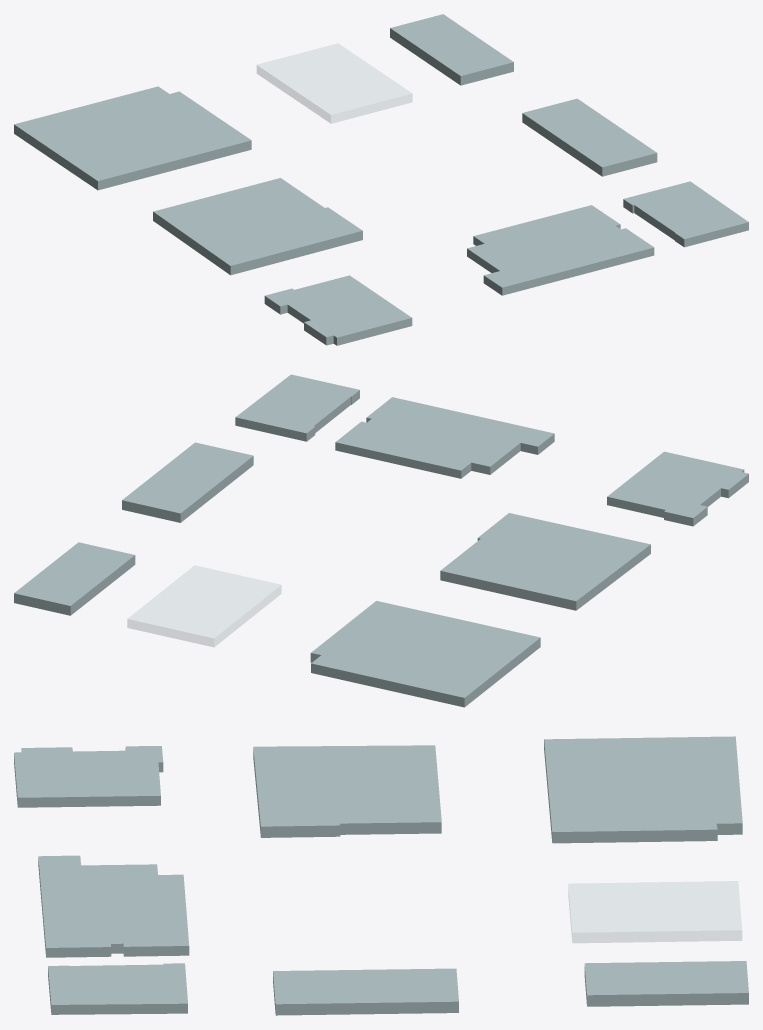
Rendered from other.glb.
3 views of the same model, one above another, from view 1: azimuth 30°, elevation 25°; view 2: azimuth 150°, elevation 25°; view 3: azimuth 270°, elevation 25° (orthographic). The views are drawn at different scales.
Parts seen in each view (by area): view 1: other3, other2, other7, other8, other1, other5, other4, other6; view 2: other3, other2, other7, other8, other1, other5, other4, other6; view 3: other3, other2, other7, other8, other1, other5, other4, other6.
Boxes of the visible parts, x1,y1,x2,y2 form: other3: [14, 86, 251, 190]; other2: [153, 178, 362, 275]; other7: [467, 205, 654, 295]; other8: [257, 43, 412, 123]; other1: [264, 275, 412, 345]; other5: [522, 98, 657, 176]; other4: [390, 14, 513, 85]; other6: [623, 181, 748, 247]; other3: [310, 601, 540, 707]; other2: [440, 513, 650, 610]; other7: [335, 397, 554, 478]; other8: [127, 565, 281, 646]; other1: [607, 451, 748, 526]; other5: [122, 442, 253, 522]; other4: [14, 542, 135, 615]; other6: [235, 374, 359, 441]; other3: [544, 736, 742, 843]; other2: [253, 745, 441, 837]; other7: [38, 855, 189, 957]; other8: [568, 881, 741, 942]; other1: [14, 746, 163, 807]; other5: [273, 968, 458, 1015]; other4: [584, 961, 748, 1006]; other6: [48, 963, 187, 1014].
Size of the model in its own units: 202 by 4.08 by 235.
